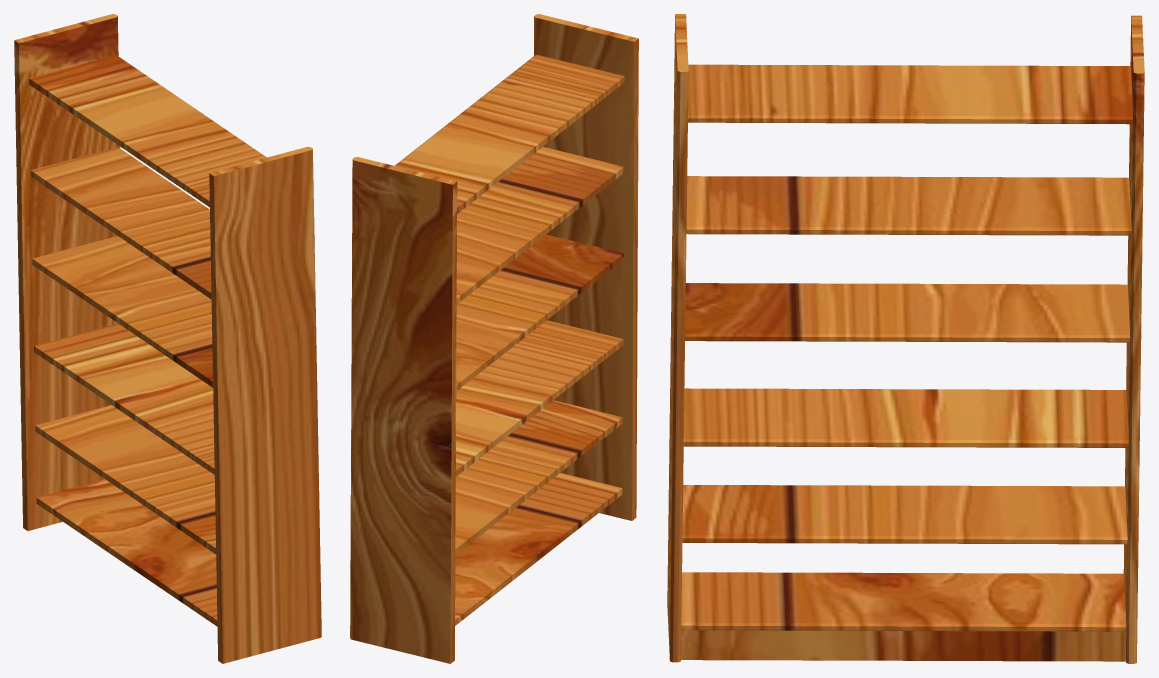
File: estante.obj
3 renders of one model, left to right at view 1: azimuth 30°, elevation 25°; view 2: azimuth 150°, elevation 25°; view 3: azimuth 270°, elevation 25°, orthographic. The views are drawn at different scales.
Parts seen in each view (by area): view 1: estante:Bibliotheque1; view 2: estante:Bibliotheque1; view 3: estante:Bibliotheque1.
Boxes of the visible parts, x1,y1,x2,y2 form: estante:Bibliotheque1: (14,14,321,663); estante:Bibliotheque1: (350,14,638,663); estante:Bibliotheque1: (667,14,1144,663).
Size of the model in its own units: 0.3624 by 1.51 by 1.1.
